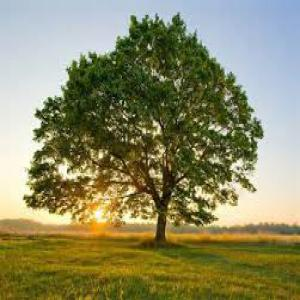Tree: (22, 10, 264, 245)
